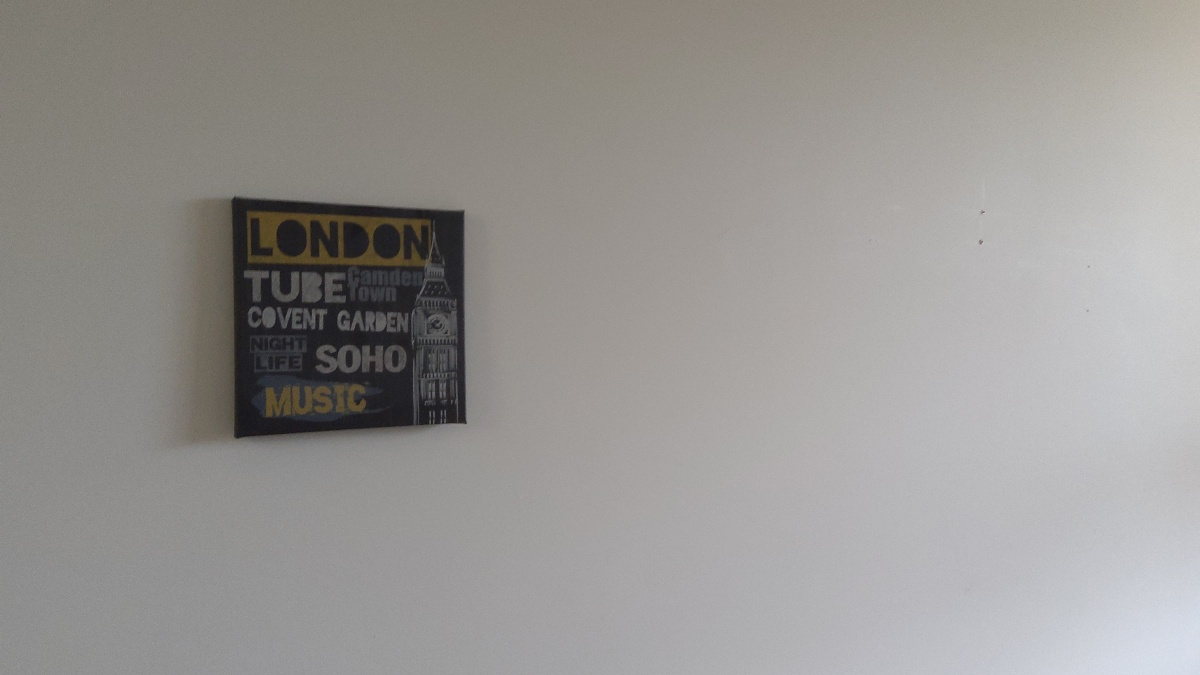poster: (219, 182, 480, 446)
